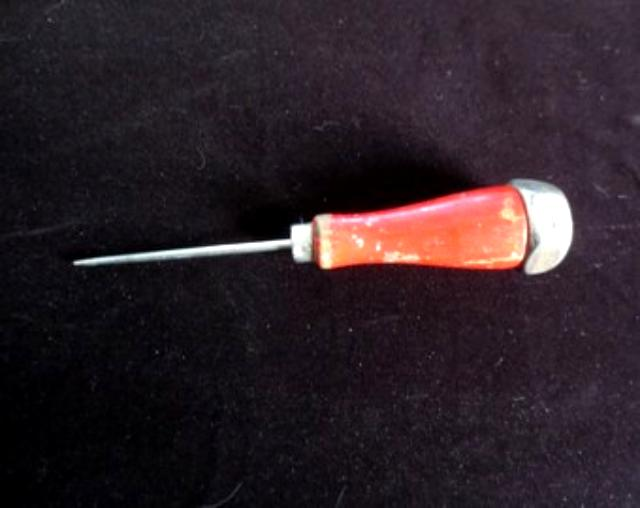ice pick: (73, 176, 572, 275)
